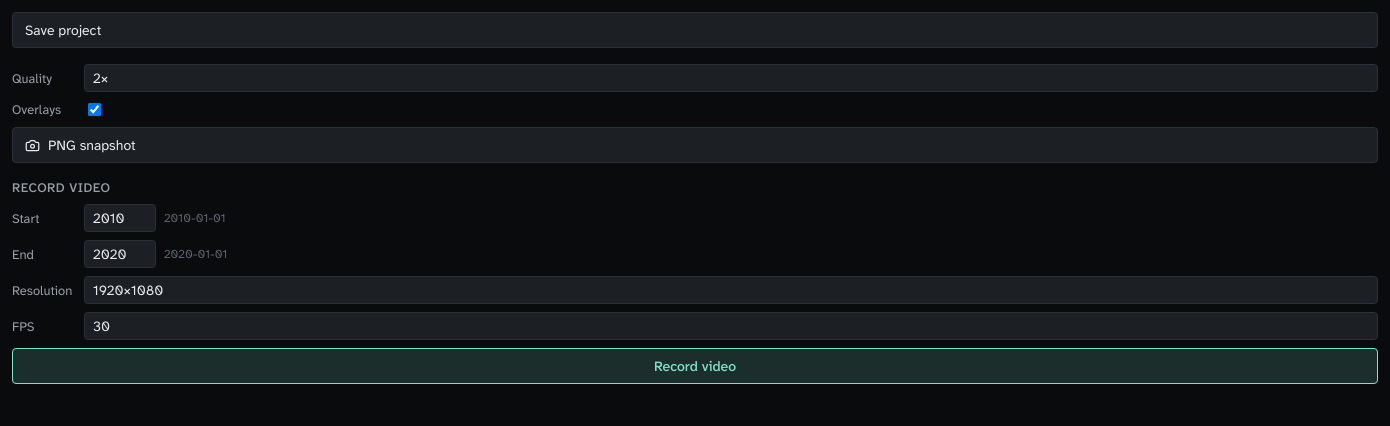
ExportPanel — PNG snapshot button › shows error when neither tree nor map canvas is present
Click the button with test id "export-png-snapshot".
click(92, 145)  # box [12,127,1378,163]
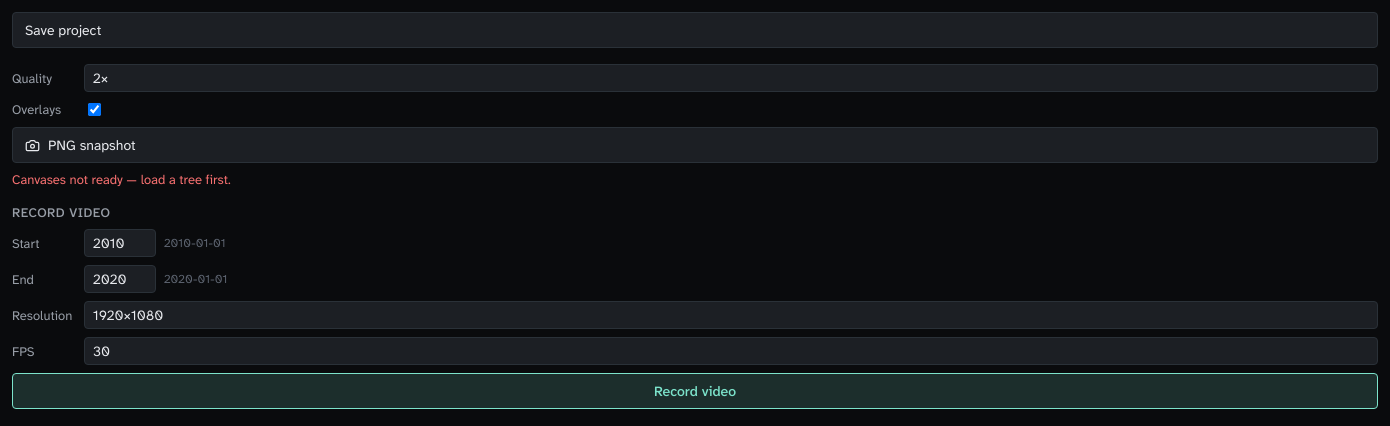
Result: the text with test id "export-snapshot-error" shows "Canvases not ready" at [12,171,231,188]
